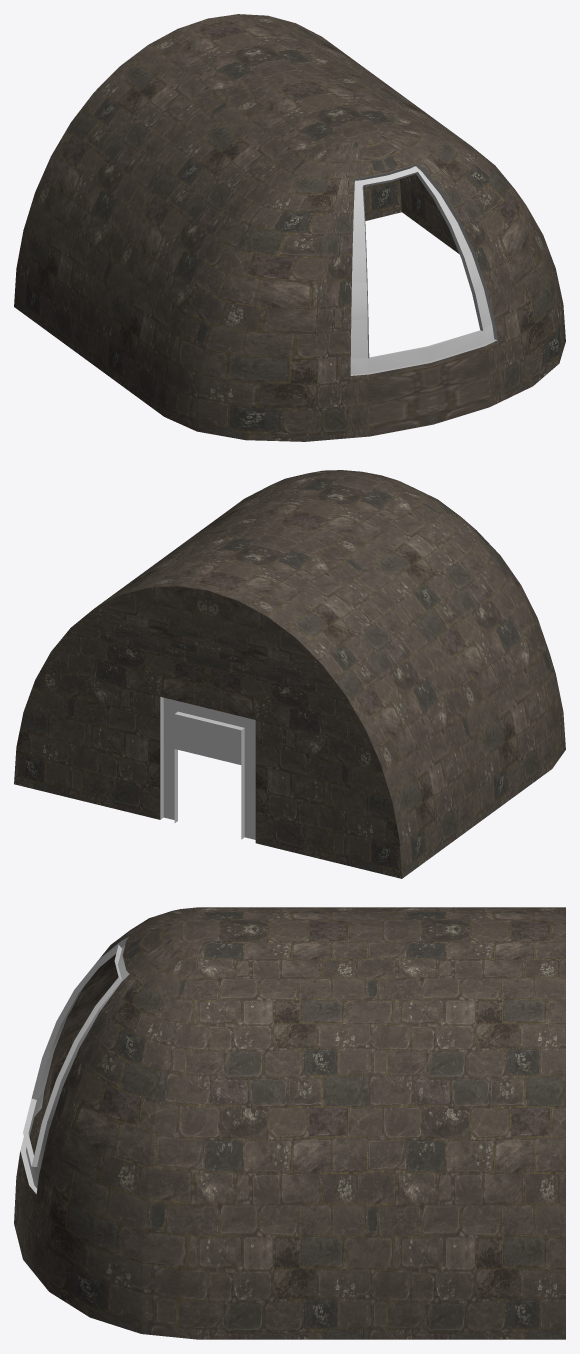
Rendered from Pared_V4.fbx.
3 views of the same model, one above another, from view 1: azimuth 30°, elevation 25°; view 2: azimuth 150°, elevation 25°; view 3: azimuth 270°, elevation 25° (orthographic). The views are drawn at different scales.
Visible parts, largest first — view 1: pared; view 2: pared; view 3: pared.
Part boxes in pixels (box(x1,y1,x2,y2)): pared: box(14, 14, 565, 441); pared: box(14, 470, 565, 878); pared: box(14, 907, 565, 1339).
Bounding box in the file's own units: 2515 × 1493 × 2531.
